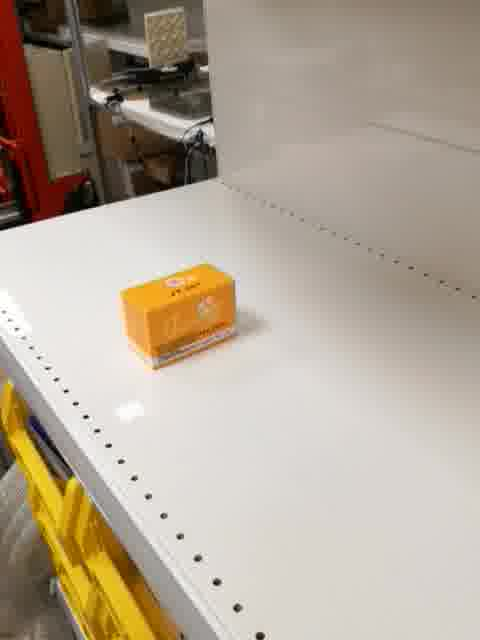jasminetea: (121, 260, 238, 372)
